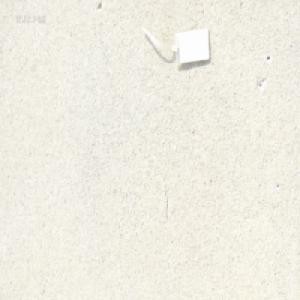LuggageTag: (139, 23, 212, 71)
